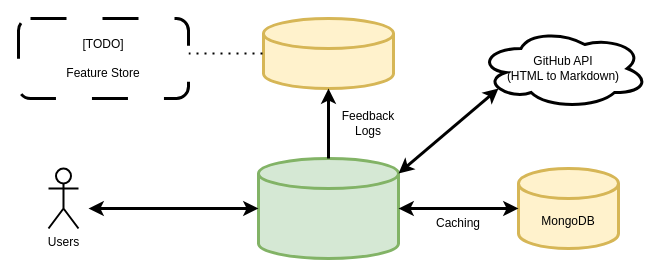
Some shapes in this 667 by 277 pixel diagram are drawn without their labels. Here are the shapes that lost their labels. From the top down, the box of each, then its label:
(262, 16, 394, 90): Kafka
(256, 156, 400, 260): Django Server
